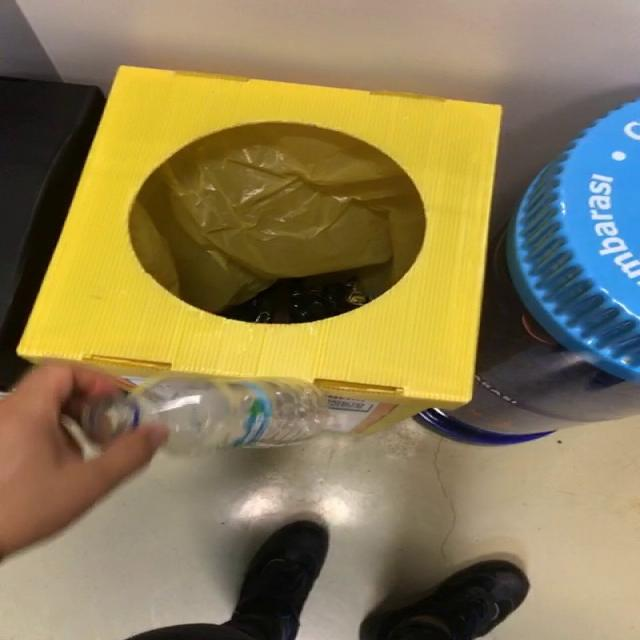plastic: (80, 376, 328, 450)
